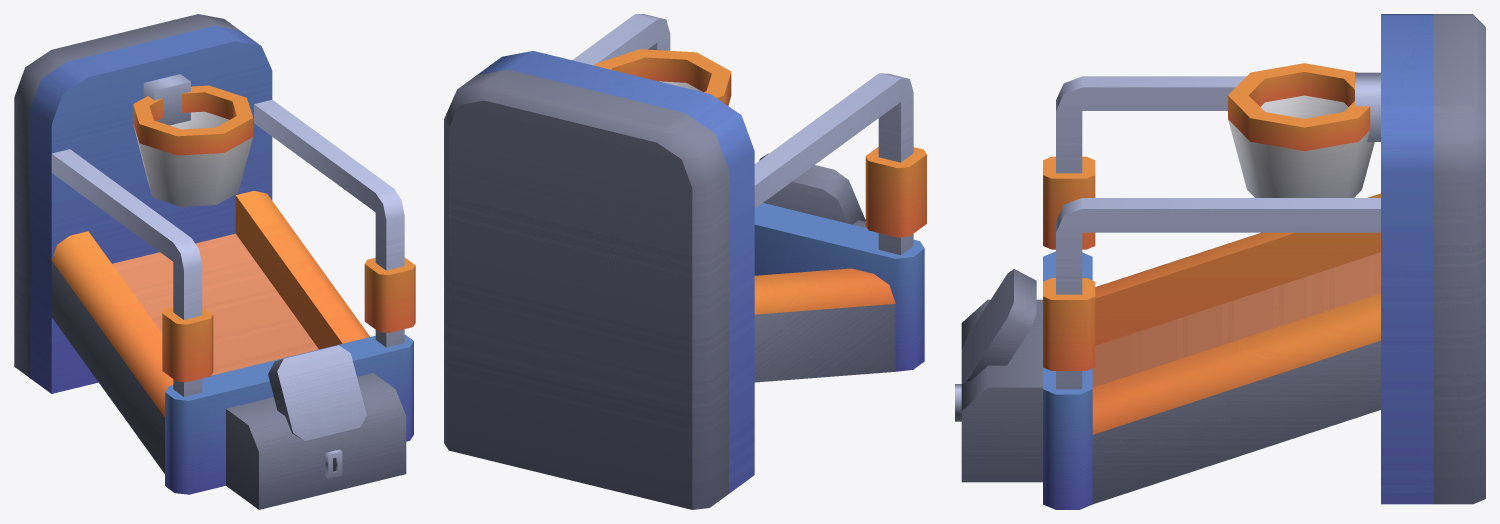
File: basketball-game.003_lev2.glb
3 views of the same model, side by side, from view 1: azimuth 30°, elevation 25°; view 2: azimuth 150°, elevation 25°; view 3: azimuth 270°, elevation 25° (orthographic). The views are drawn at different scales.
Parts seen in each view (by area): view 1: basketball-game.003_lev2; view 2: basketball-game.003_lev2; view 3: basketball-game.003_lev2.
Part boxes in pixels (x1,y1,x2,y2): basketball-game.003_lev2: [14, 14, 415, 509]; basketball-game.003_lev2: [444, 14, 926, 509]; basketball-game.003_lev2: [955, 14, 1485, 509].
Bounding box in the file's own units: 2.35 × 2.89 × 3.67.
1 material, 1 textured.
